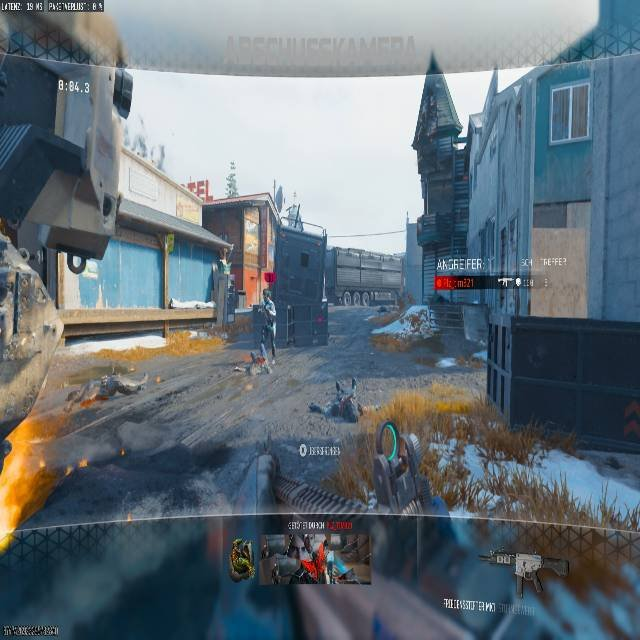head: (262, 288, 271, 299)
player: (256, 288, 277, 362)
